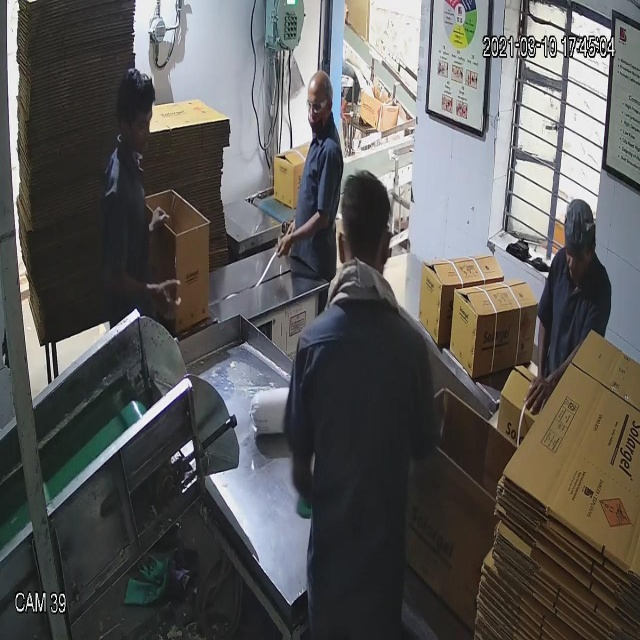Sin_guantes: (102, 255, 189, 337), (266, 206, 332, 268)
